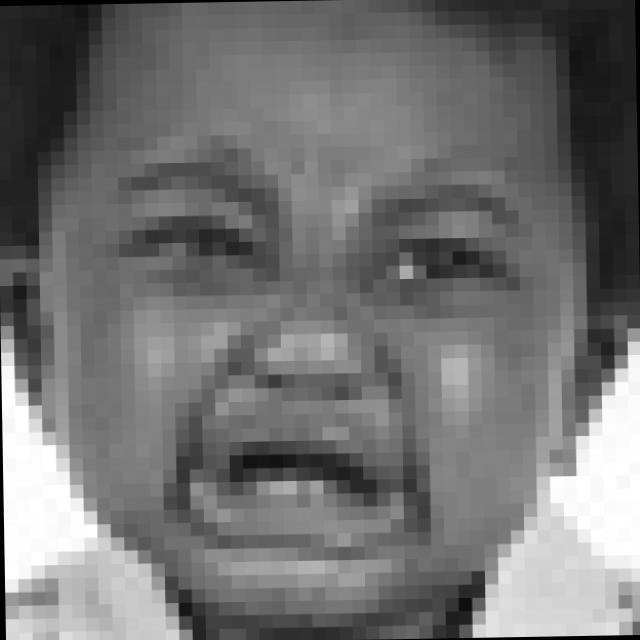sad: (94, 119, 536, 570)
